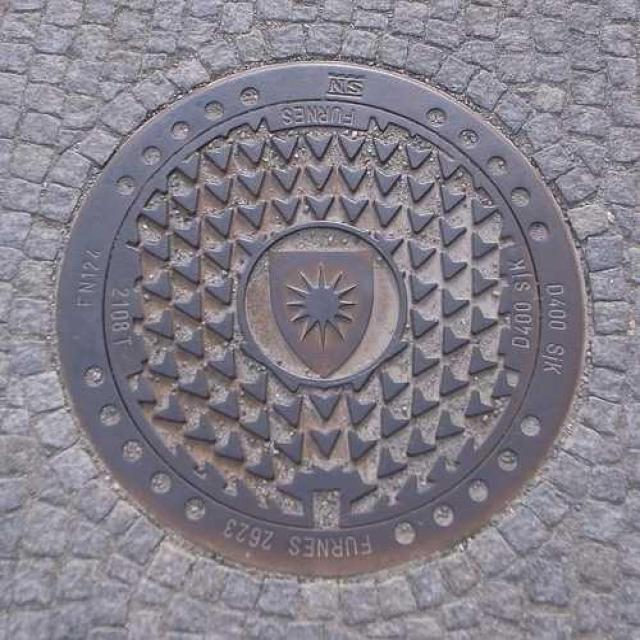manhole: (60, 63, 582, 575)
